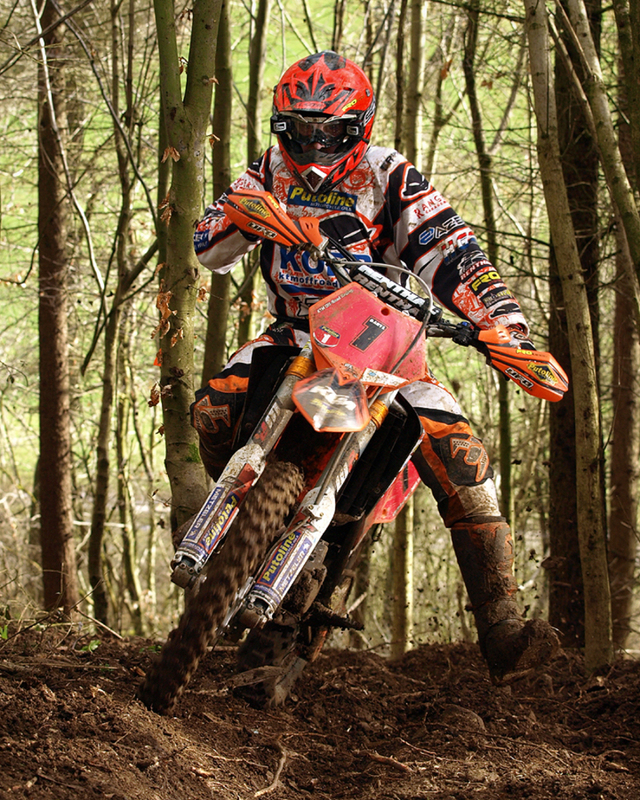helmet: (258, 70, 375, 177)
